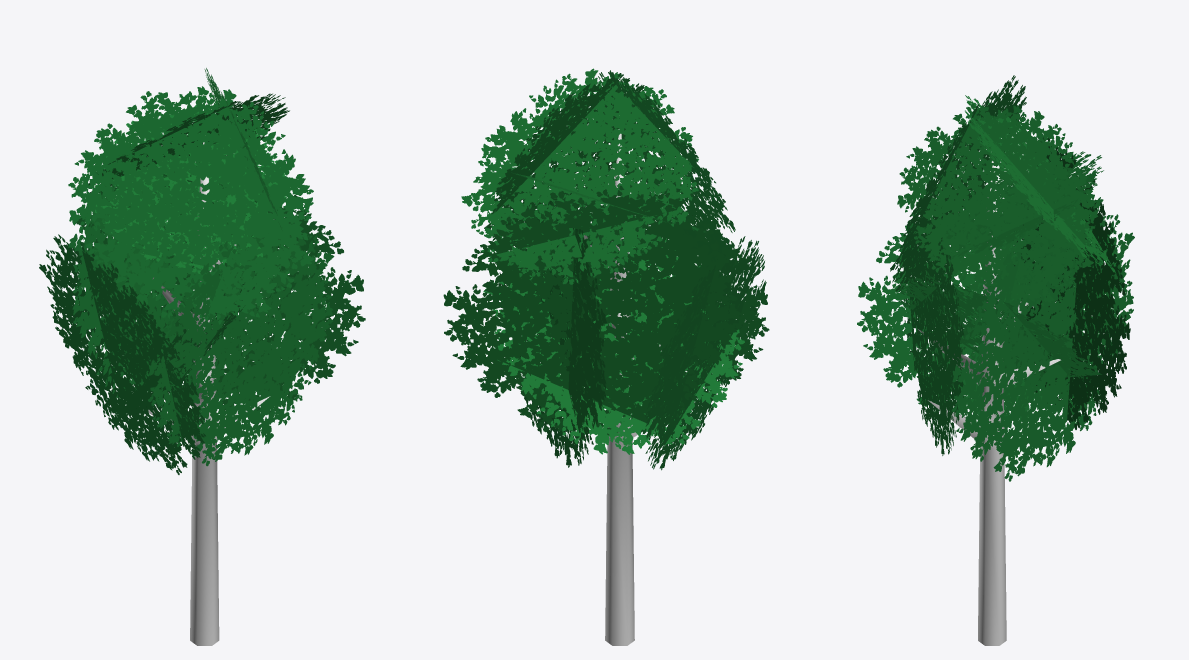
File: tree.fbx
3 renders of one model, left to right at view 1: azimuth 30°, elevation 25°; view 2: azimuth 150°, elevation 25°; view 3: azimuth 270°, elevation 25°, orthographic. The views are drawn at different scales.
Parts seen in each view (by area): view 1: Plane, tree; view 2: Plane, tree; view 3: Plane, tree.
Boxes of the visible parts, bbox=[...] form: Plane: bbox=[39, 68, 365, 474]; tree: bbox=[148, 142, 270, 645]; Plane: bbox=[443, 68, 769, 470]; tree: bbox=[584, 129, 661, 645]; Plane: bbox=[857, 75, 1134, 481]; tree: bbox=[918, 161, 1060, 645].
Size of the model in its own units: 2445 by 4372 by 2389.
Materials: 2 (1 with a texture image).
